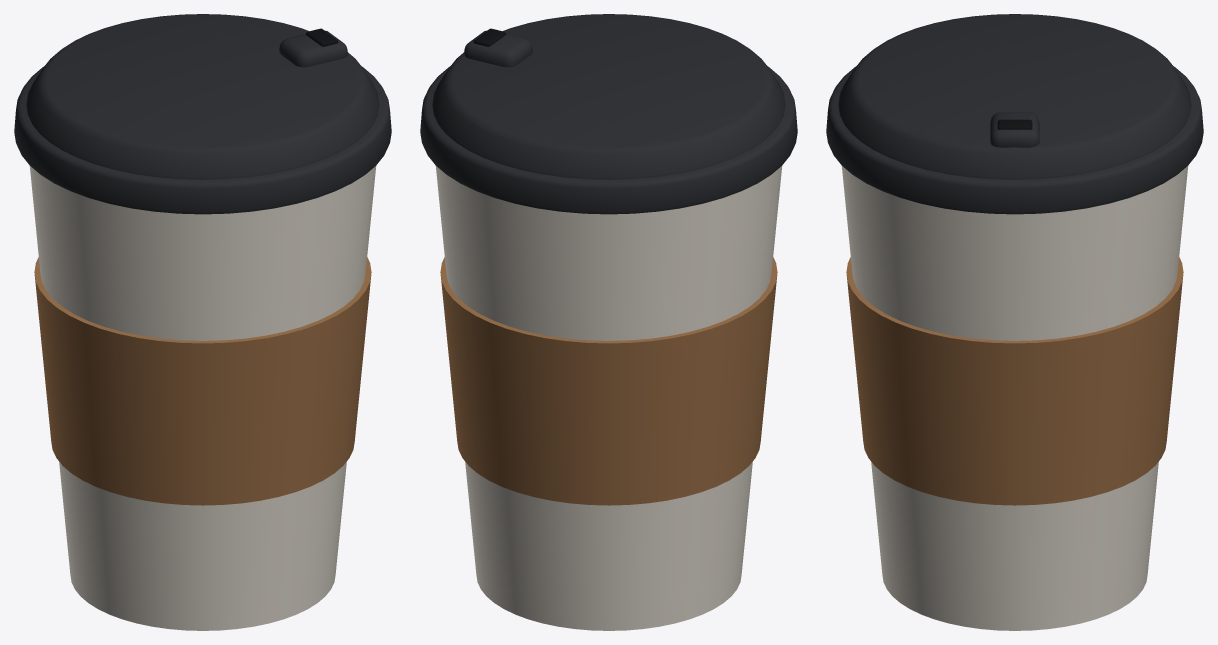
File: cup.glb
The picture shows the model from 3 angles, left to right: view 1: azimuth 30°, elevation 25°; view 2: azimuth 150°, elevation 25°; view 3: azimuth 270°, elevation 25°; orthographic projection.
Parts seen in each view (by area): view 1: Cup, Lid, Sleeve, Spout; view 2: Cup, Lid, Sleeve, Spout; view 3: Cup, Lid, Sleeve, Spout.
Part boxes in pixels (left/top/right/bottom): Cup: left=29, top=166, right=376, bottom=630; Lid: left=14, top=14, right=391, bottom=214; Sleeve: left=34, top=257, right=371, bottom=505; Spout: left=279, top=30, right=347, bottom=67; Cup: left=435, top=166, right=782, bottom=630; Lid: left=420, top=14, right=797, bottom=214; Sleeve: left=440, top=257, right=777, bottom=505; Spout: left=464, top=30, right=532, bottom=67; Cup: left=841, top=166, right=1188, bottom=630; Lid: left=826, top=14, right=1203, bottom=214; Sleeve: left=846, top=257, right=1183, bottom=505; Spout: left=990, top=112, right=1039, bottom=147.
Bounding box in the file's own units: 0.7686 × 1.15 × 0.7686.
